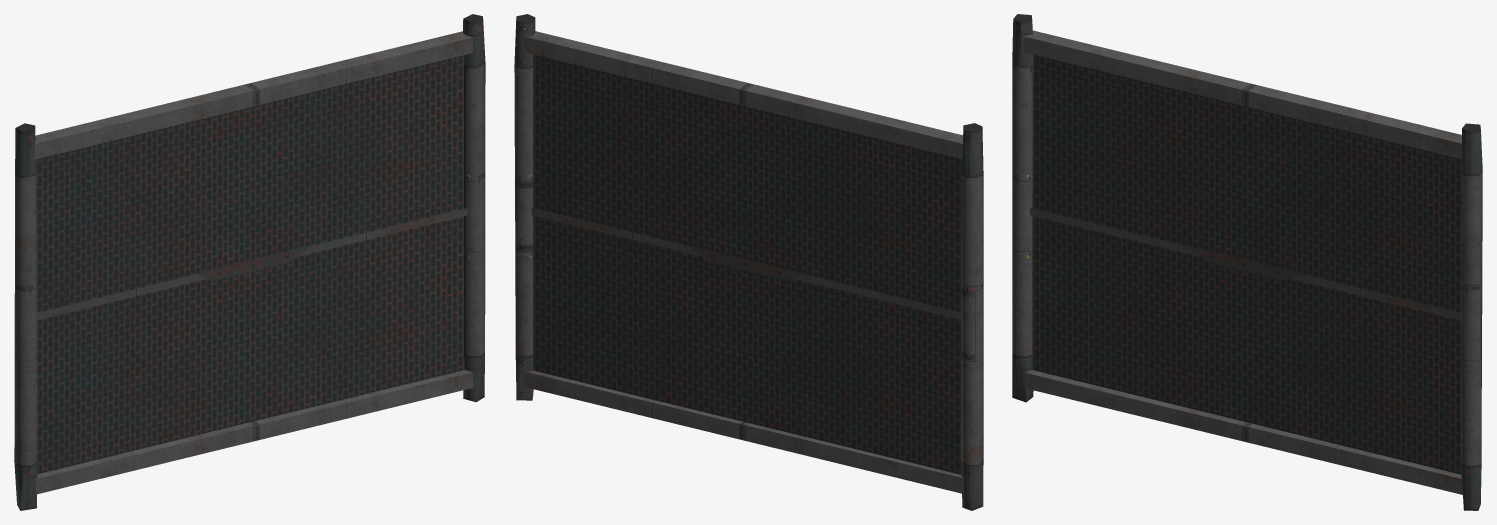
File: ARC0910137.fbx
3 renders of one model, left to right at view 1: azimuth 30°, elevation 25°; view 2: azimuth 150°, elevation 25°; view 3: azimuth 330°, elevation 25°, orthographic.
Visible parts, largest first — view 1: smARC0910137; view 2: smARC0910137; view 3: smARC0910137.
Part boxes in pixels (<box>): smARC0910137: <box>14,14,485,510</box>; smARC0910137: <box>514,14,983,510</box>; smARC0910137: <box>1012,14,1482,510</box>.
Size of the model in its own units: 397 by 308 by 16.87.
1 material, 1 textured.
